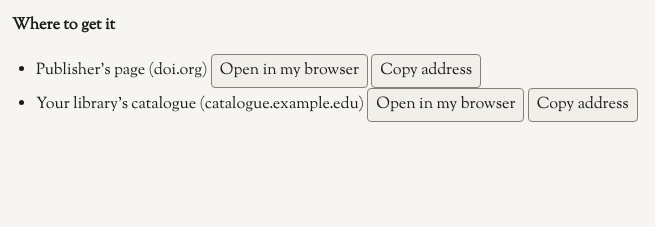
Test: WhereToGetIt in the desktop app (R340 d) › R315 c: a copy that fails shows that place's address as text to select, with the sentence, once
This screenshot has width=655, height=227.
Click the button "Copy address" in the row of "Publisher's page".
click(426, 71)  # box [371,54,481,88]
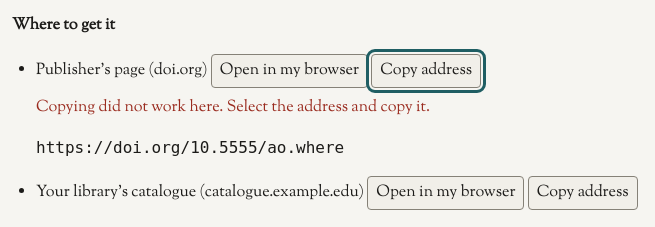
Now the text "Copying did not work here. Select the address and copy it." is shown once, box [36,96,430,119]
Now the text "https://doi.org/10.5555/ao.where" is shown, box [36,138,344,157]
